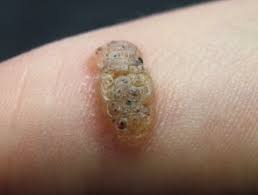Warts: (84, 36, 167, 151)
